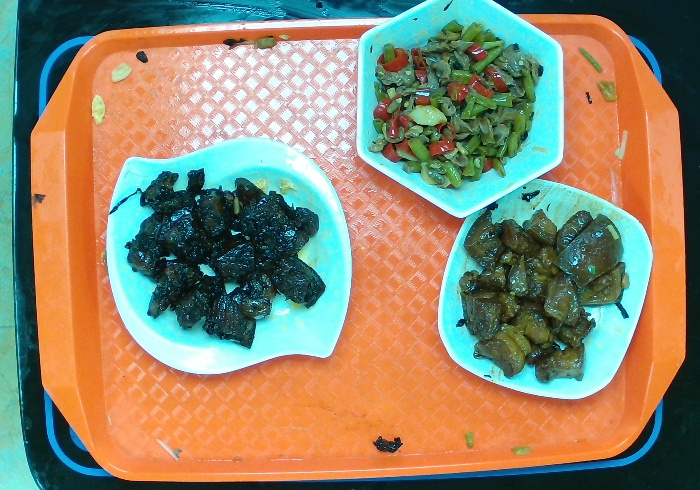RJxy-Liu_Jiao_Wan: (353, 1, 567, 220)
RJxy-Shuang_Jiao_Pan: (104, 135, 354, 377)
RJxy-Si_Fang_Wan: (435, 176, 654, 401)
